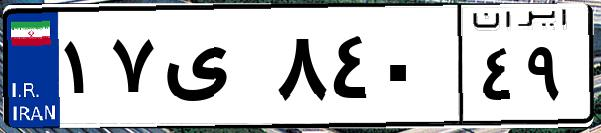0: (385, 28, 445, 110)
1: (57, 26, 110, 100)
4: (330, 28, 385, 110), (475, 38, 525, 113)
7: (110, 28, 158, 98)
8: (270, 28, 330, 110)
9: (525, 38, 570, 115)
ی: (158, 20, 270, 120)
